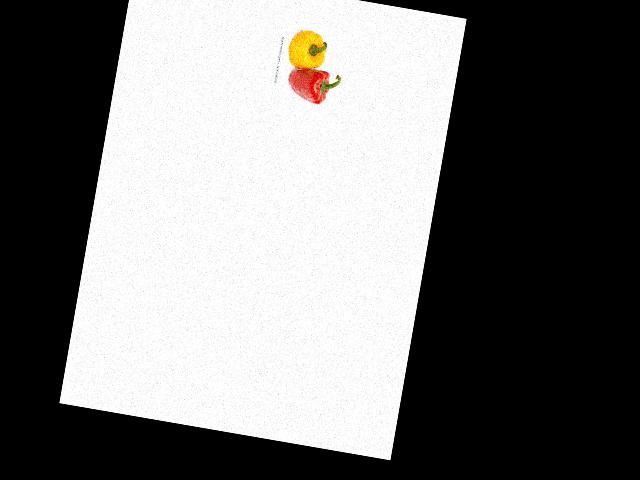bell_pepper: (282, 25, 332, 74)
